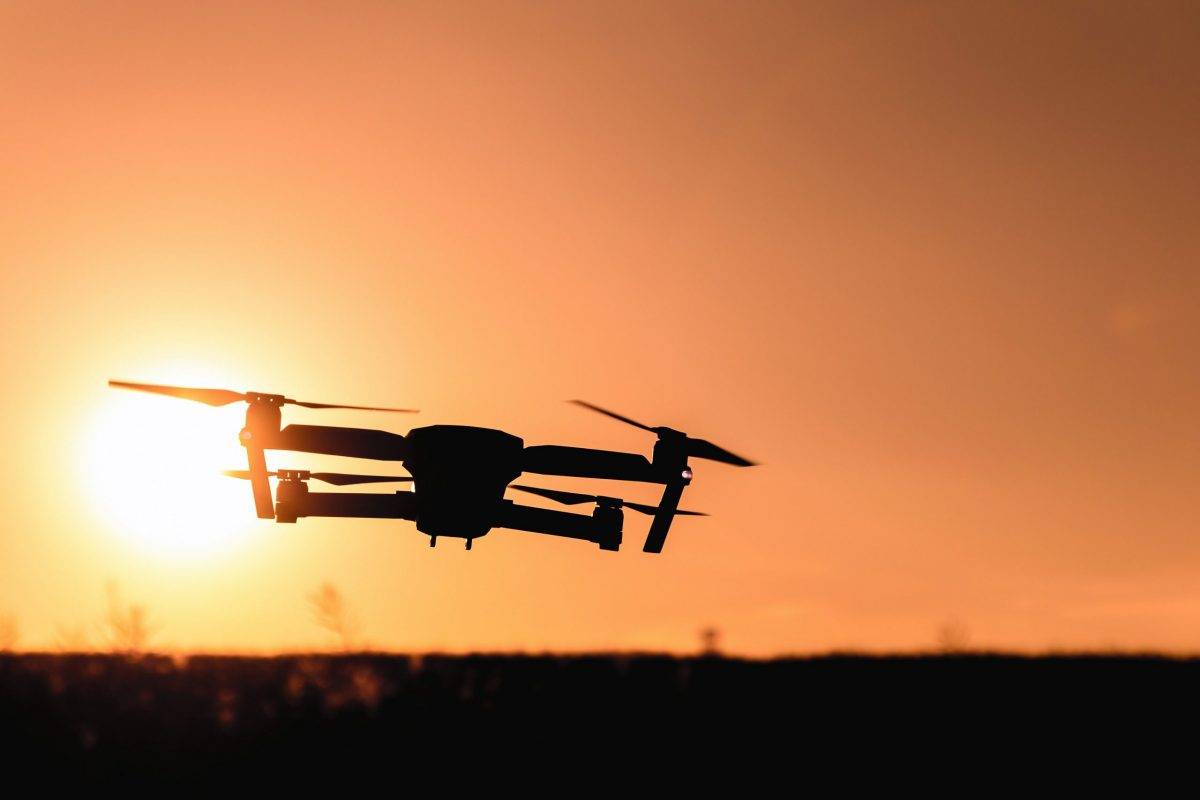drone: (107, 377, 754, 555)
